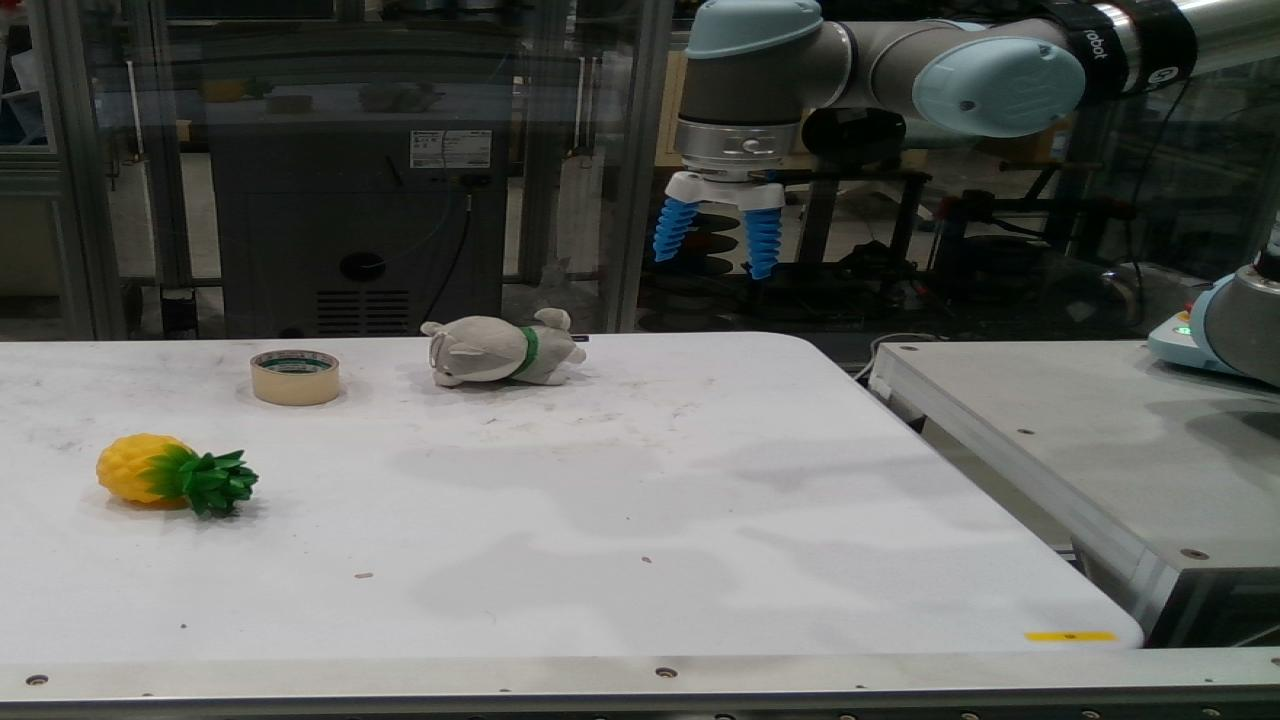UR5: (664, 0, 1279, 211), (1187, 209, 1279, 388)
gripper_left: (652, 197, 697, 262)
gripper_right: (746, 206, 782, 279)
target: (95, 433, 260, 518), (421, 308, 587, 388), (250, 349, 340, 405)
